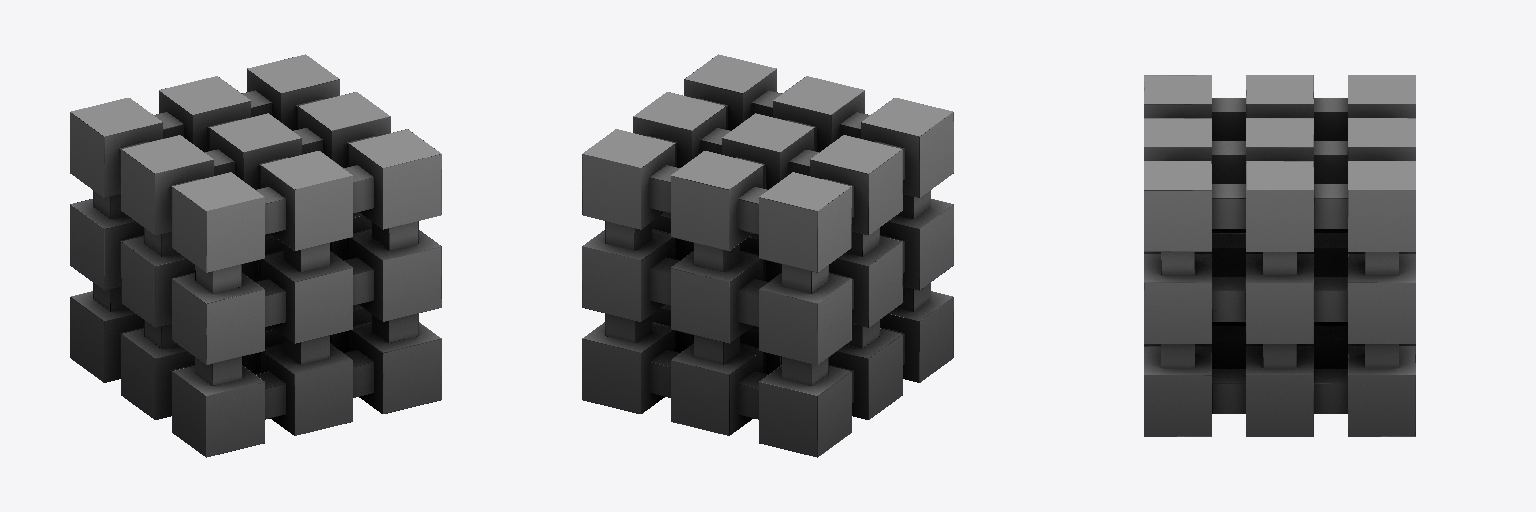
The picture shows the model from 3 angles: view 1: azimuth 30°, elevation 25°; view 2: azimuth 150°, elevation 25°; view 3: azimuth 270°, elevation 25°; orthographic projection.
Parts seen in each view (by area): view 1: Hypercube; view 2: Hypercube; view 3: Hypercube.
Part boxes in pixels (left/top/right/bottom): Hypercube: left=70, top=54, right=441, bottom=457; Hypercube: left=582, top=54, right=953, bottom=457; Hypercube: left=1144, top=75, right=1415, bottom=436.
Size of the model in its own units: 8 by 8 by 8.
1 materials, 1 textured.